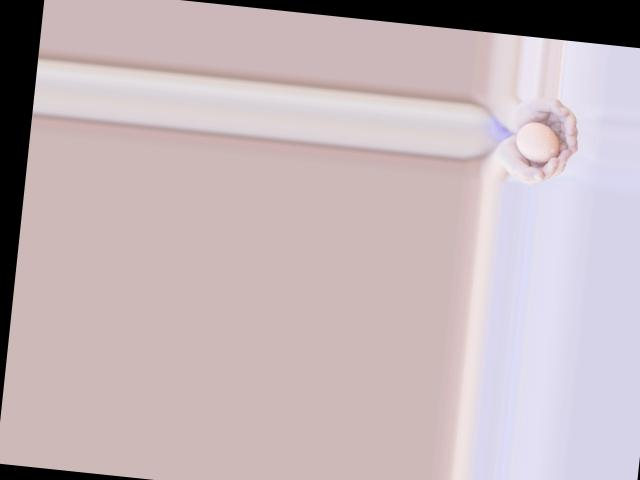egg: (513, 119, 561, 164)
